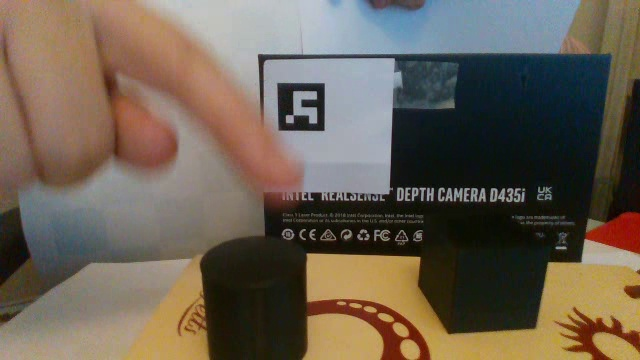cube: (411, 198, 555, 339)
cylindre: (194, 225, 315, 360)
